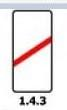road_sign: (11, 10, 53, 93)
